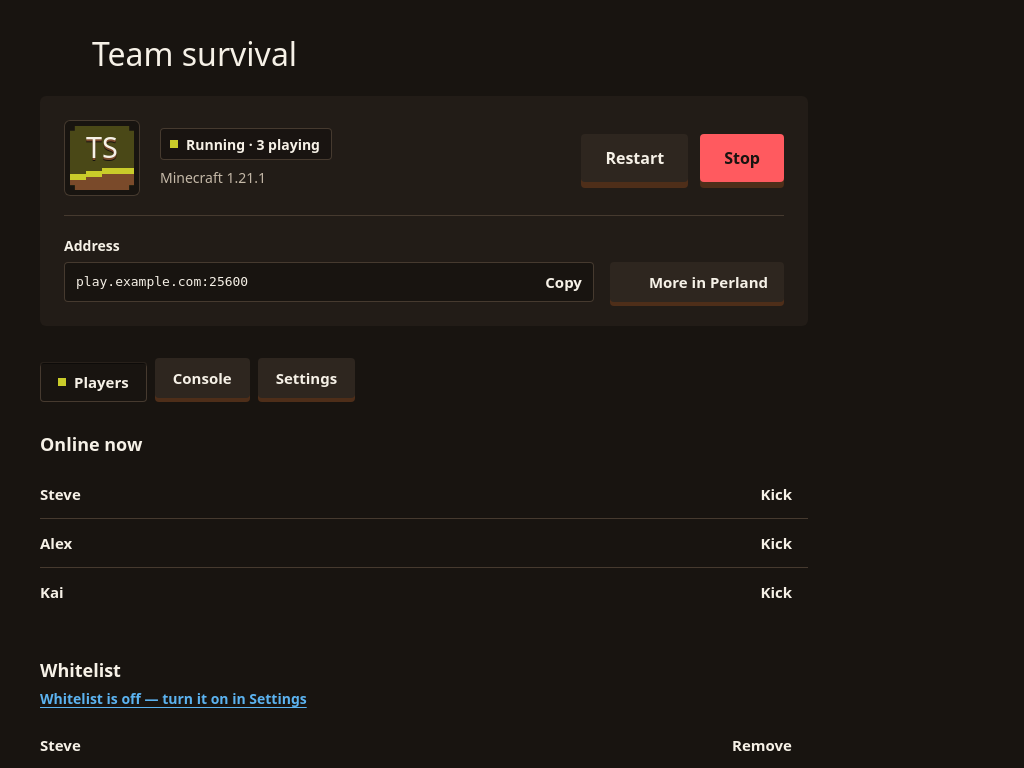
Test case: ManageScreen › names the server, starts on Players and switches sections
Check: the heading "Team survival" is shown, box left=92, top=38, right=297, bottom=70
Click the radio button labelled "Settings".
click(306, 378)  # box left=258, top=358, right=355, bottom=398
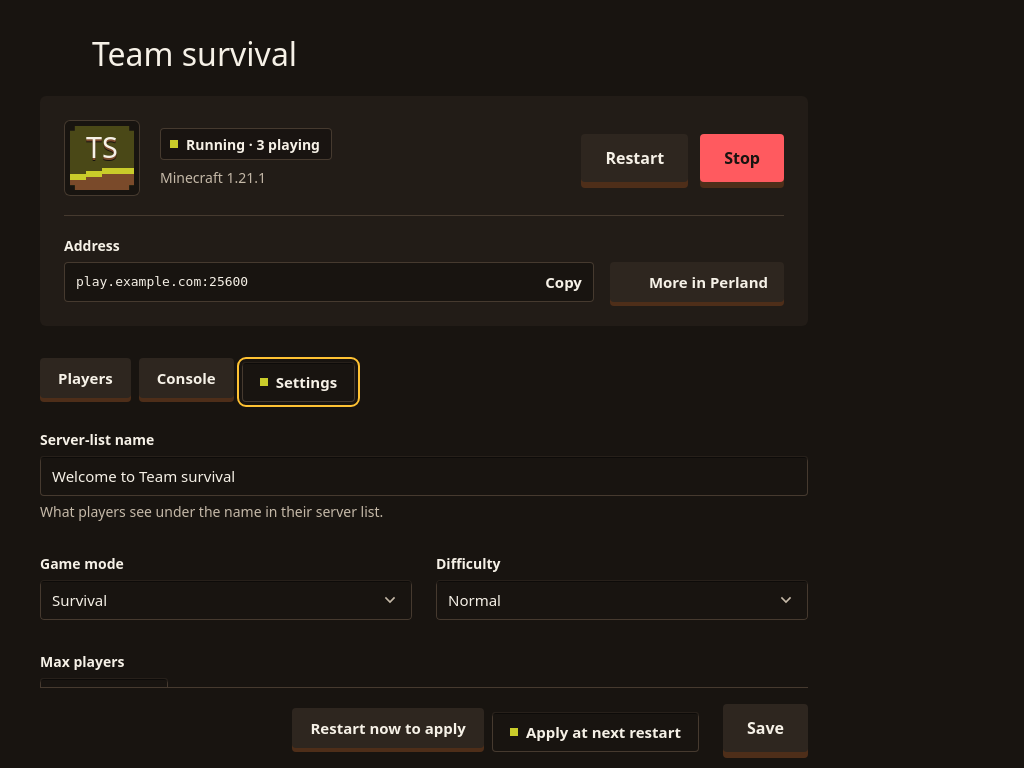
Check: the dropdown labelled "Game mode" is shown, box left=40, top=580, right=412, bottom=620
Click the radio button labelled "Console".
click(186, 378)  # box left=139, top=358, right=234, bottom=398
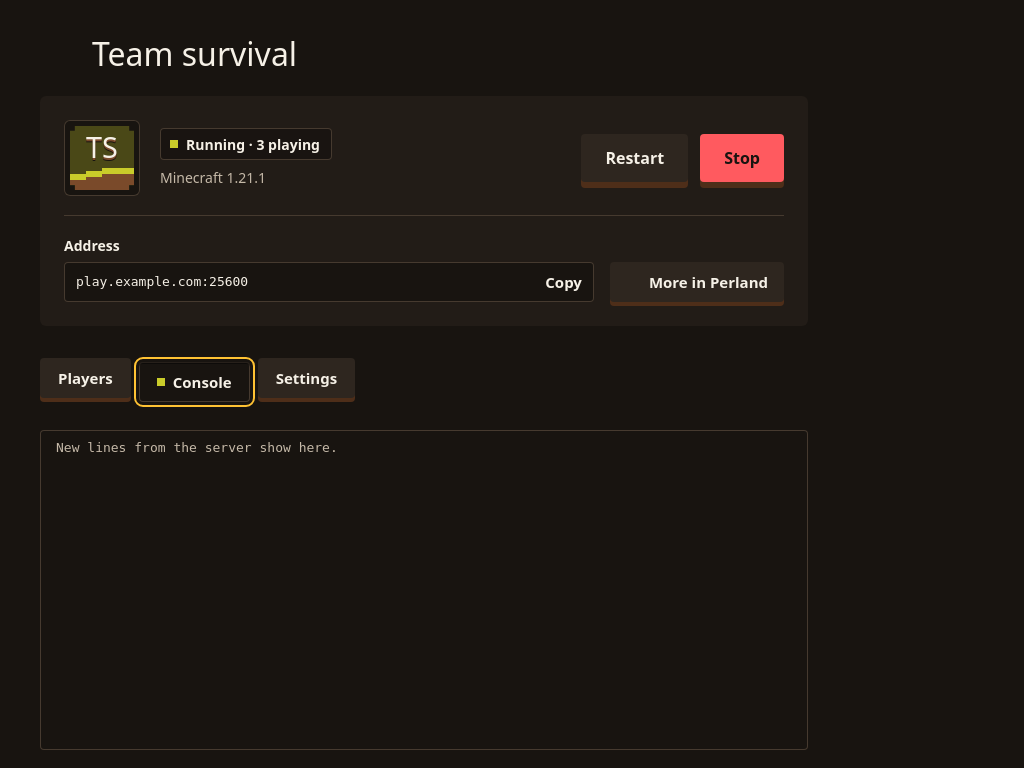
Check: the element named "Server console" is shown, box left=40, top=430, right=808, bottom=750
